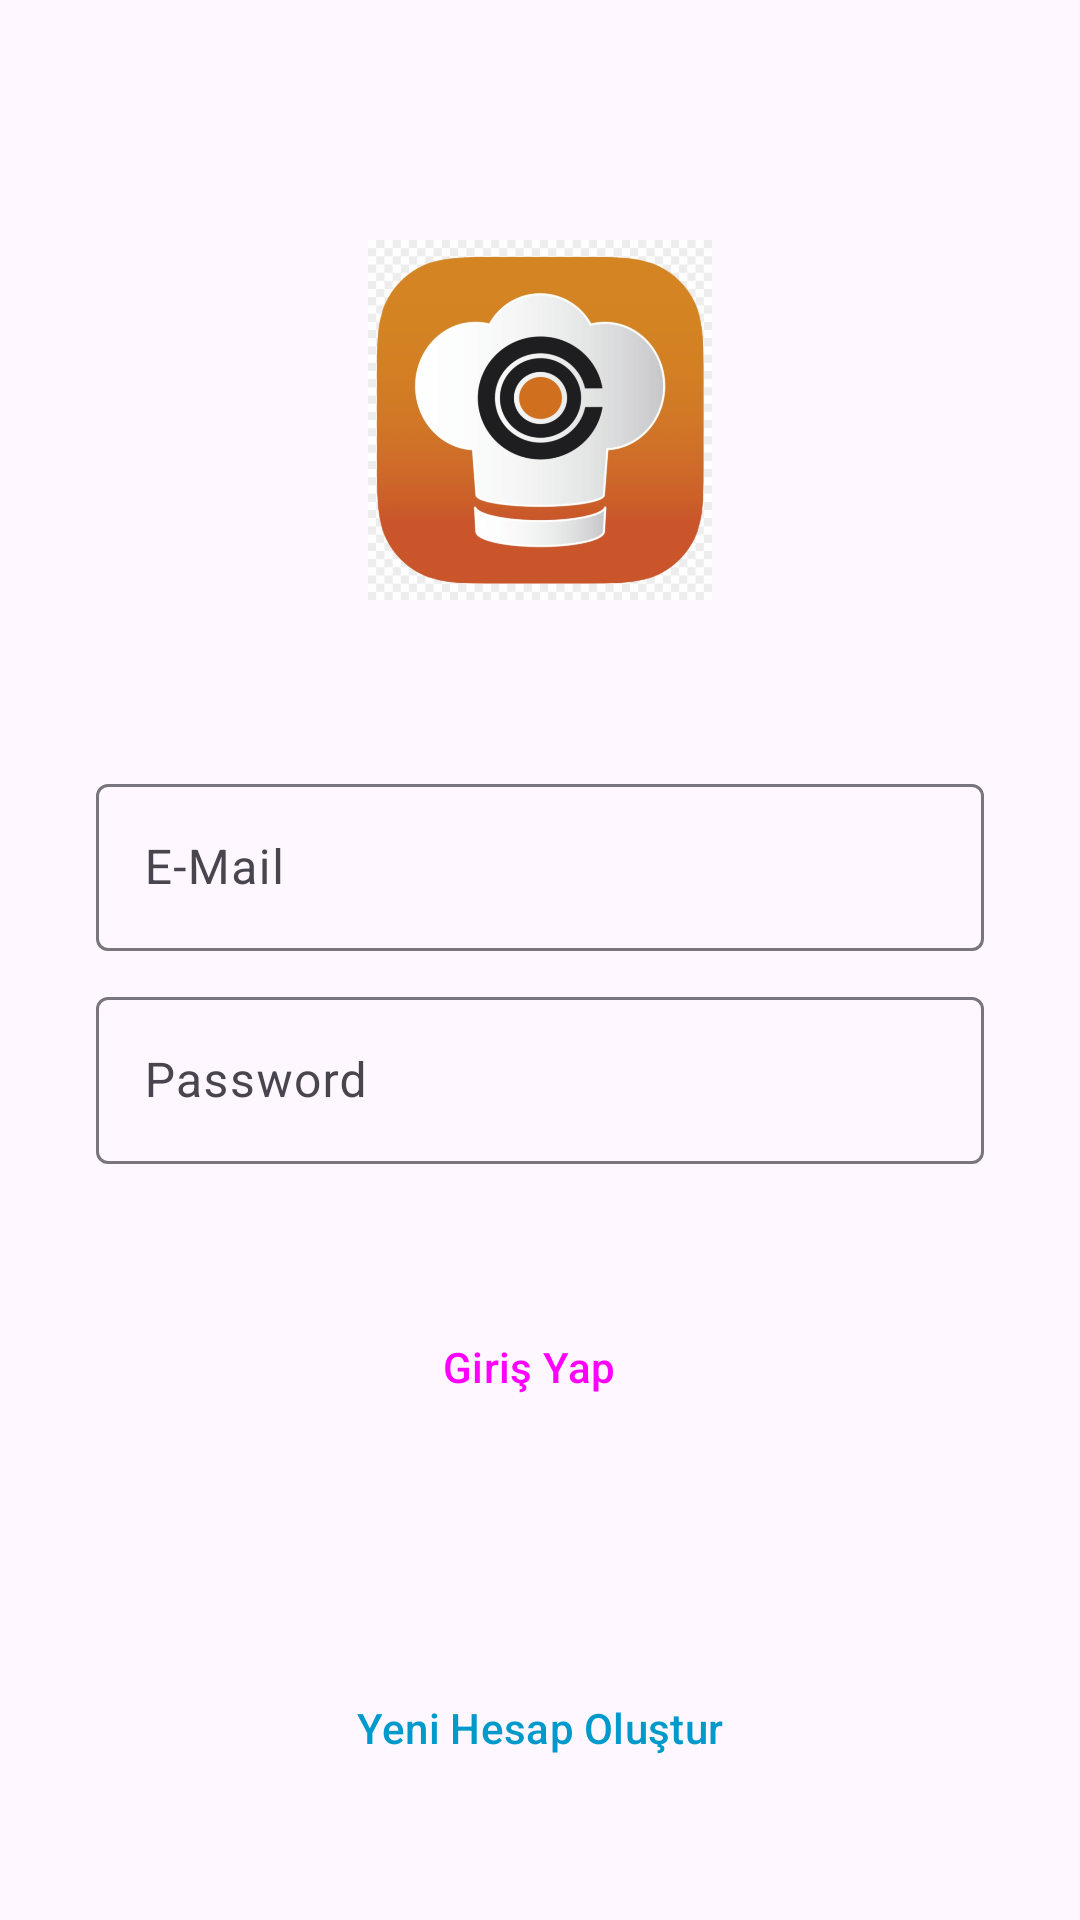

Where to tap for icons on this 1080 x 1920 app screen, as [x,y]:
appicon: [540,420]
